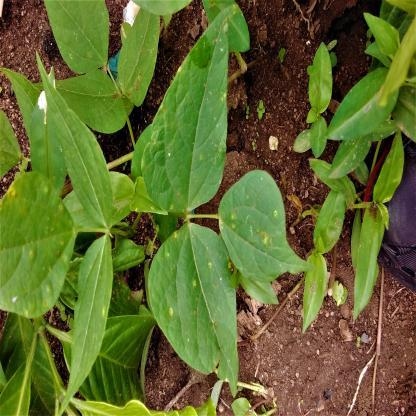Beans_Rust: (154, 15, 242, 213), (150, 222, 238, 392), (6, 161, 70, 321), (229, 171, 306, 284)
